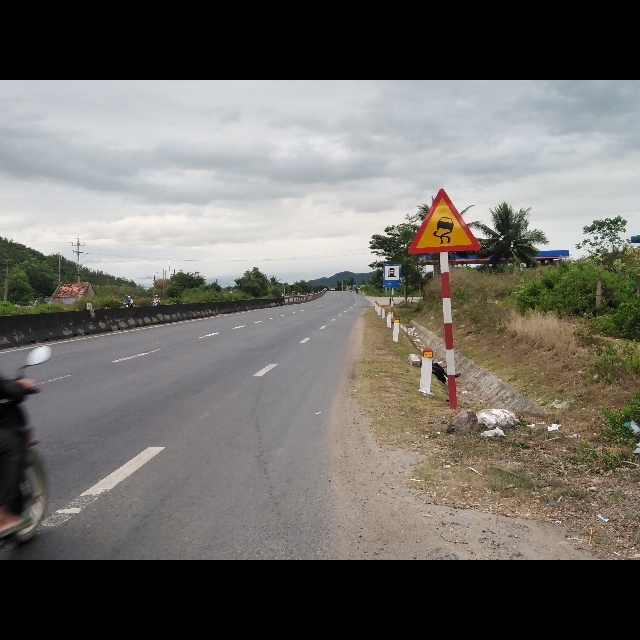Đường trơn trượt: (406, 188, 480, 255)
